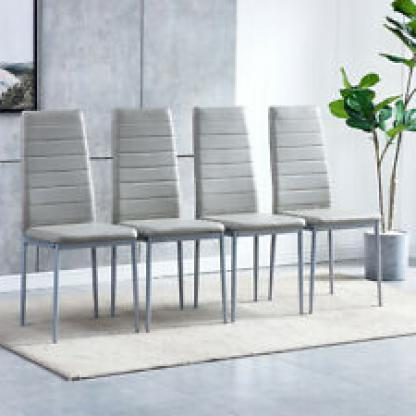chair: (8, 104, 141, 334), (267, 99, 383, 316), (115, 92, 224, 318), (191, 104, 302, 319)
